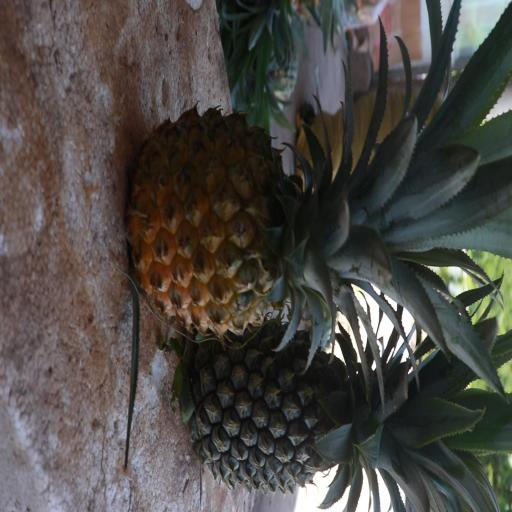Pineapple - v8 v1: (131, 110, 456, 326)
